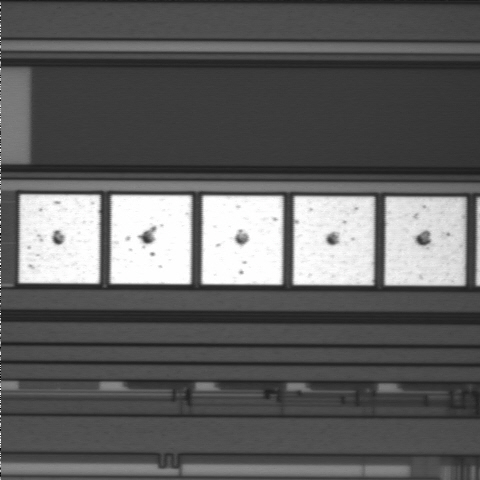pad: (110, 195, 192, 284), (19, 195, 100, 284), (202, 196, 283, 285), (293, 196, 374, 285), (385, 197, 465, 285)
